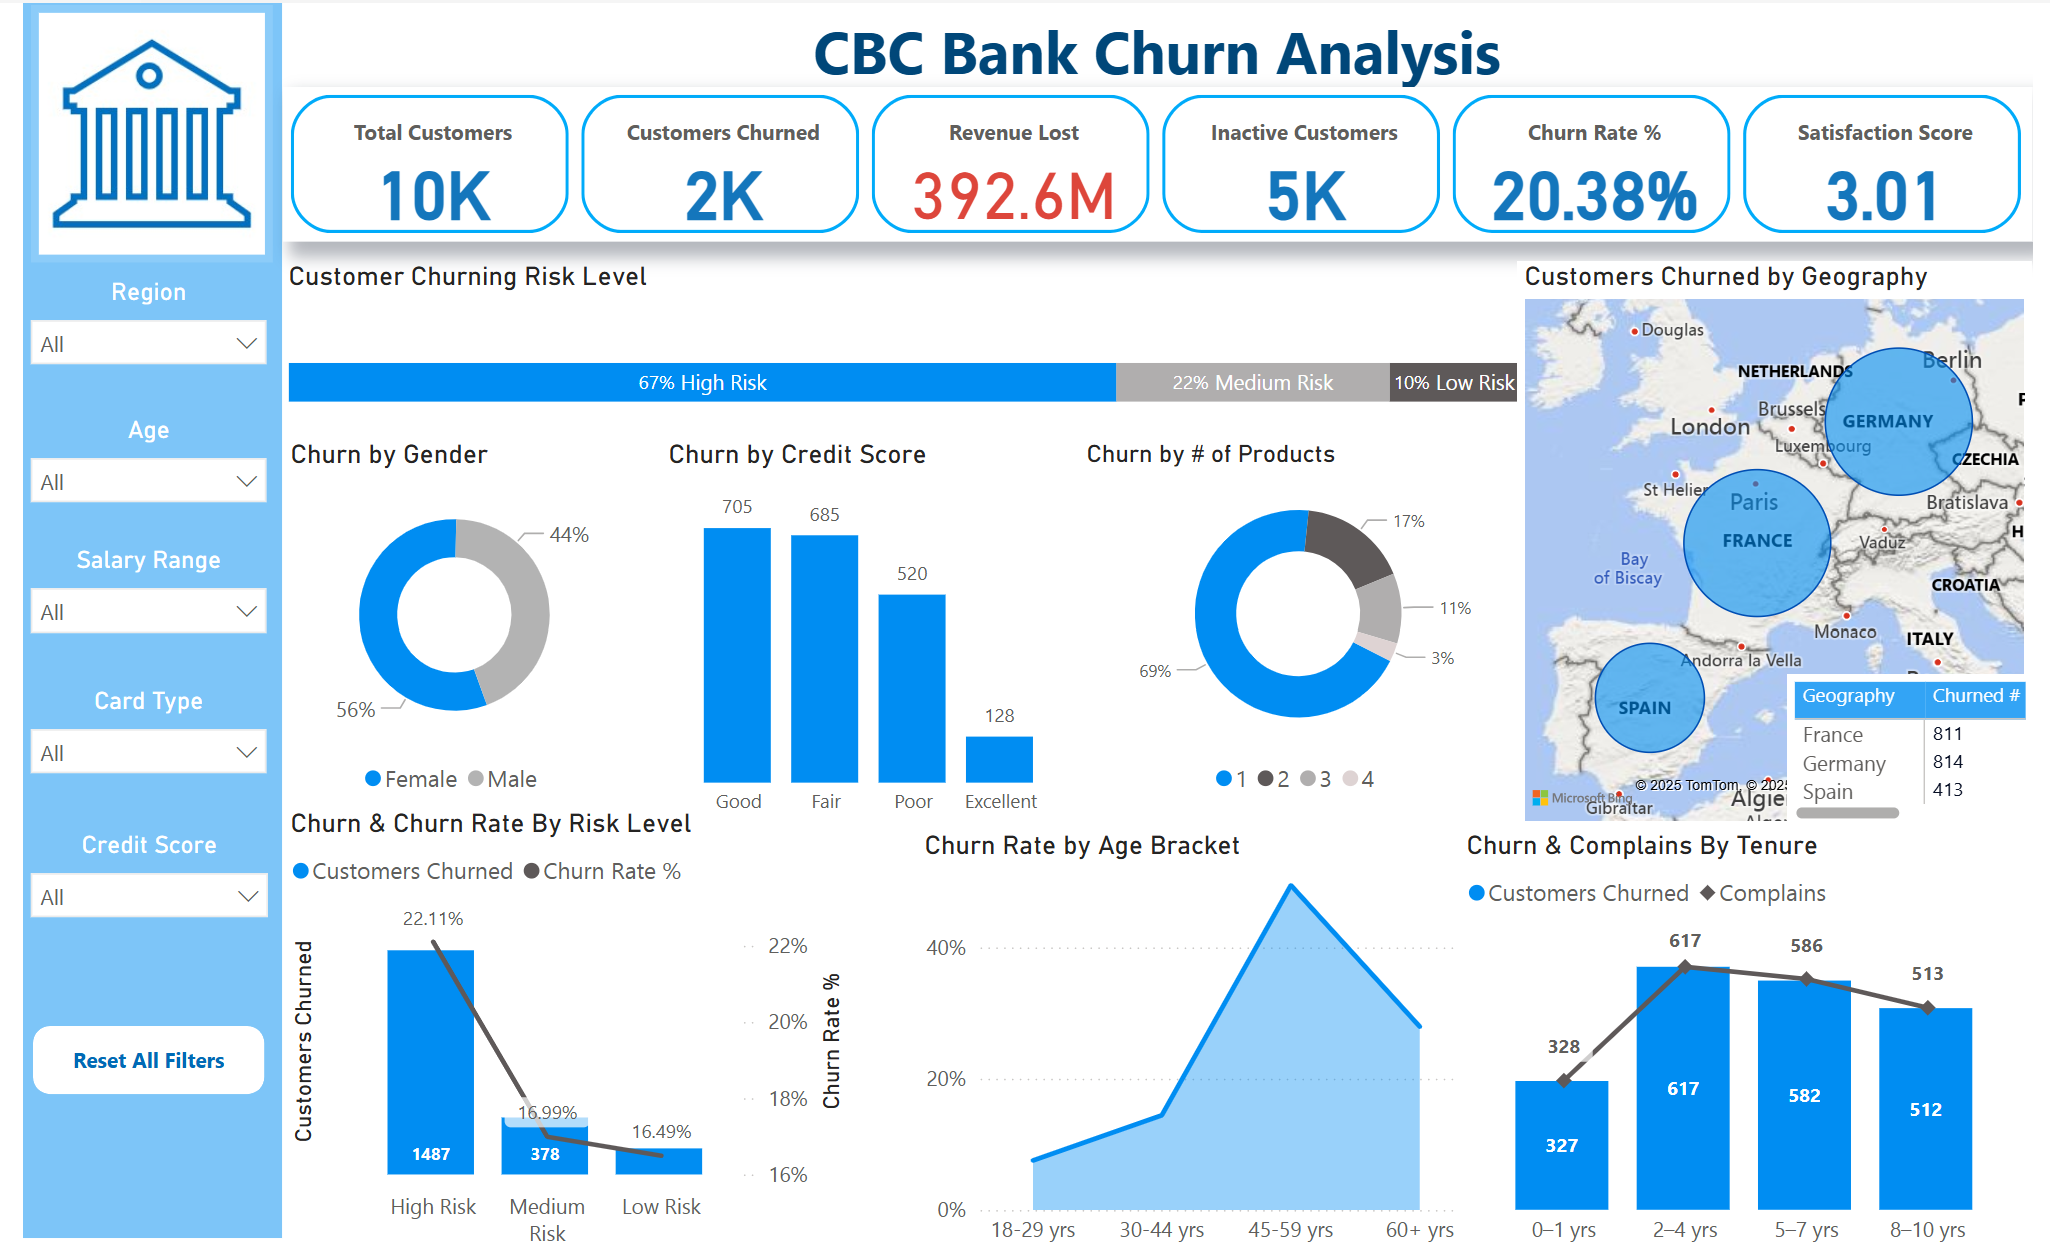

This screenshot's page, from the dashboard's own definition file:
{"tool":"powerbi","page":{"name":"Home","canvas":[1280,800],"ordinal":0},"visuals":[{"type":"hundredPercentStackedBarChart","title":"Customer Churning Risk Level","fields":{"Series":["Customer-Churn-Records.Risk Level"],"Y":["Measure Table.Total Customers"]},"box":[164.9,164.9,793.4,129.3],"z":0},{"type":"textbox","box":[231.6,0,980.9,60],"z":1000},{"type":"areaChart","title":"Churn Rate by Age Bracket","fields":{"Y":["Measure Table.Churn Rate %"],"Category":["Age Brackets Order.Age Bracket"]},"box":[568.9,526.3,358.2,274.1],"z":2000},{"type":"shape","box":[0,0,165.2,786.2],"z":3000},{"type":"cardVisual","fields":{"Data":["Measure Table.Total Customers","Measure Table.Customers Churned","Measure Table.Churned Revenue Lost","Measure Table.Inactive Customers","Measure Table.Churn Rate %","Measure Table.Average Satisfaction Score"]},"box":[165.2,53.5,1114.6,98.7],"z":4000},{"type":"donutChart","title":"Churn by Gender","fields":{"Category":["Customer-Churn-Records.Gender"],"Y":["Measure Table.Customers Churned"]},"box":[165.2,277.4,218.3,235.1],"z":5000},{"type":"columnChart","title":"Churn by Credit Score ","fields":{"Category":["Customer-Churn-Records.CreditScoreGroup"],"Y":["Measure Table.Customers Churned"]},"box":[406.6,277.3,266,248.2],"z":6000},{"type":"slicer","title":"Salary Range","fields":{"Values":["Customer-Churn-Records.Salary Range"]},"box":[0,345.1,165.2,63.7],"z":7000},{"type":"slicer","title":"Age","fields":{"Values":["Customer-Churn-Records.Age Bracket"]},"box":[0,262.1,165.2,64.6],"z":8000},{"type":"slicer","title":"Credit Score","fields":{"Values":["Customer-Churn-Records.CreditScoreGroup"]},"box":[0,526,166.1,69.2],"z":9000},{"type":"slicer","title":"Card Type","fields":{"Values":["Customer-Churn-Records.Card Type"]},"box":[0,434.6,165.2,64.6],"z":10000},{"type":"lineStackedColumnComboChart","title":"Churn & Churn Rate By  Risk Level","fields":{"Category":["Customer-Churn-Records.Risk Level"],"Y":["Measure Table.Customers Churned"],"Y2":["Measure Table.Churn Rate %"]},"box":[165.8,512.4,361.6,287.6],"z":11000},{"type":"donutChart","title":"Churn by # of Products","fields":{"Category":["Customer-Churn-Records.NumOfProducts (bins)"],"Y":["Measure Table.Customers Churned"]},"box":[672.6,277.3,279.2,235.1],"z":12000},{"type":"lineStackedColumnComboChart","title":"Churn & Complains By Tenure","fields":{"Category":["Customer-Churn-Records.TenureGroup"],"Y":["Measure Table.Customers Churned"],"Y2":["Sum(Customer-Churn-Records.Complain)"]},"box":[914.6,526.3,365.4,274.1],"z":13000},{"type":"map","fields":{"Category":["Customer-Churn-Records.Geography"],"Size":["Measure Table.Customers Churned"]},"box":[951.6,164.5,327.9,360.9],"z":14000},{"type":"shape","box":[6.1,651.1,147.4,43.4],"z":15000},{"type":"slicer","title":"Region","fields":{"Values":["Customer-Churn-Records.Geography"]},"box":[0,174.4,165.2,63.7],"z":16000},{"type":"image","box":[5.5,0.9,154.1,164.2],"z":17000},{"type":"pivotTable","fields":{"Rows":["Customer-Churn-Records.Geography"],"Values":["Measure Table.Customers Churned"]},"box":[1123,427.2,156.9,97.8],"z":18000}]}

Visuals, with their boxes in screenshot pixels (x1, y1, x2, y2), scaled from the page's 1280x800 canvas onto the 2050x1256 screenshot:
"Customer Churning Risk Level" hundredPercentStackedBarChart: Rect(264, 259, 1535, 462)
textbox: Rect(371, 0, 1942, 94)
"Churn Rate by Age Bracket" areaChart: Rect(911, 826, 1485, 1255)
shape: Rect(0, 0, 265, 1234)
cardVisual - Measure Table.Total Customers x Measure Table.Customers Churned: Rect(265, 84, 2049, 239)
"Churn by Gender" donutChart: Rect(265, 436, 614, 805)
"Churn by Credit Score " columnChart: Rect(651, 435, 1077, 825)
"Salary Range" slicer: Rect(0, 542, 265, 642)
"Age" slicer: Rect(0, 411, 265, 513)
"Credit Score" slicer: Rect(0, 826, 266, 934)
"Card Type" slicer: Rect(0, 682, 265, 784)
"Churn & Churn Rate By  Risk Level" lineStackedColumnComboChart: Rect(266, 804, 845, 1255)
"Churn by # of Products" donutChart: Rect(1077, 435, 1524, 804)
"Churn & Complains By Tenure" lineStackedColumnComboChart: Rect(1465, 826, 2049, 1255)
map - Customer-Churn-Records.Geography x Measure Table.Customers Churned: Rect(1524, 258, 2049, 825)
shape: Rect(10, 1022, 246, 1090)
"Region" slicer: Rect(0, 274, 265, 374)
image: Rect(9, 1, 256, 259)
pivotTable - Customer-Churn-Records.Geography x Measure Table.Customers Churned: Rect(1799, 671, 2049, 824)
